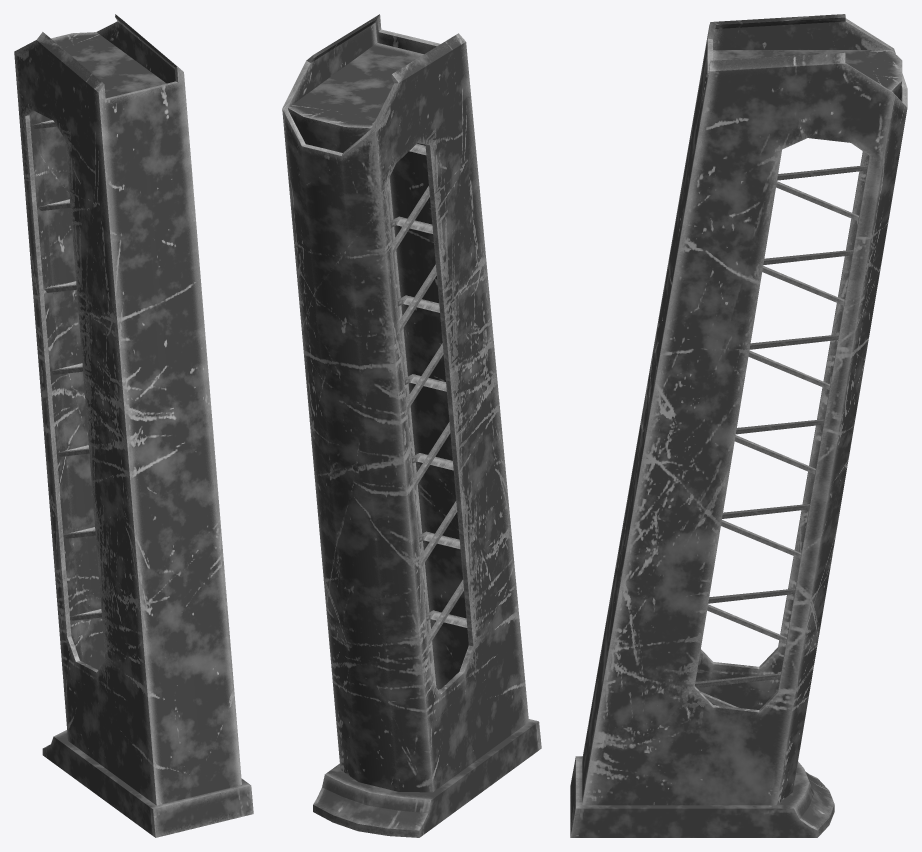
File: pm-mag.fbx
3 renders of one model, left to right at view 1: azimuth 30°, elevation 25°; view 2: azimuth 150°, elevation 25°; view 3: azimuth 270°, elevation 25°, orthographic. The views are drawn at different scales.
Visible parts, largest first — view 1: body, foot, follower, spring; view 2: body, foot, follower, spring; view 3: body, foot, spring, follower.
Part boxes in pixels (x1,y1,x2,y2): body: (14,14,241,805); foot: (42,730,253,837); follower: (51,32,166,98); spring: (32,120,101,620); body: (282,14,528,792); foot: (313,719,541,837); follower: (288,43,423,152); spring: (390,144,467,690); body: (582,14,907,805); foot: (570,756,834,837); spring: (695,165,867,707); follower: (712,50,902,98).
Bounding box in the file's own units: 46 × 318 × 125.
